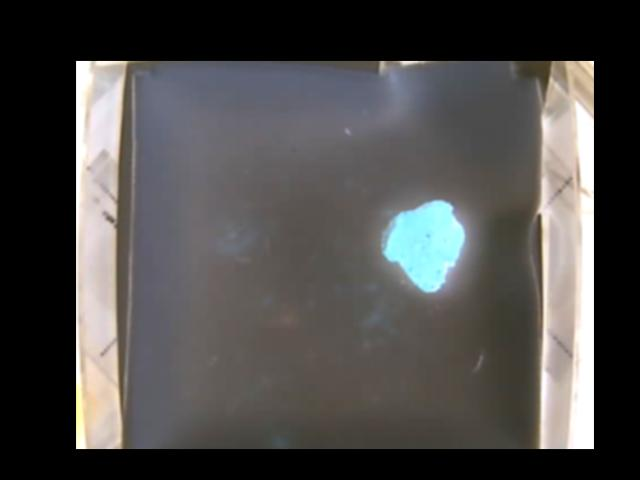Brisk: (382, 199, 466, 290)
